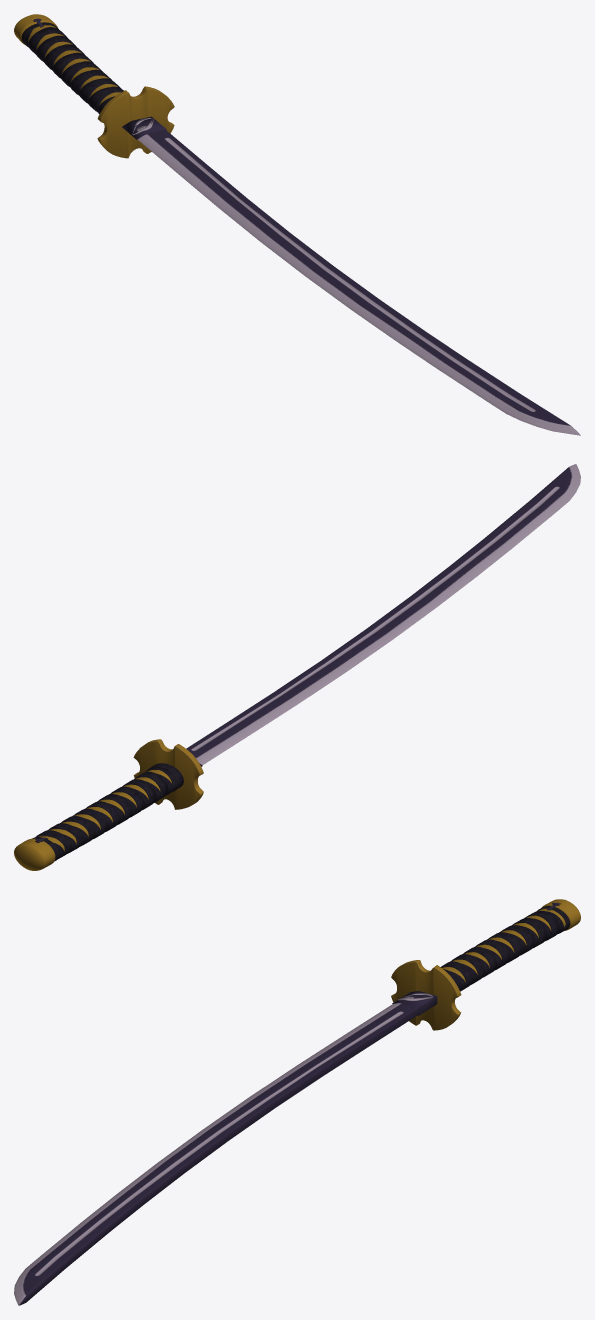
The model's file is sword.glb.
3 views of the same model, one above another, from view 1: azimuth 30°, elevation 25°; view 2: azimuth 150°, elevation 25°; view 3: azimuth 330°, elevation 25° (orthographic). The views are drawn at different scales.
Parts seen in each view (by area): view 1: katana blade.001_Metal scratched.003_0, katana blade.001_Metal scratched.002_0, katana blade.001_Wool 01.002_0; view 2: katana blade.001_Metal scratched.003_0, katana blade.001_Metal scratched.002_0, katana blade.001_Wool 01.002_0; view 3: katana blade.001_Metal scratched.003_0, katana blade.001_Metal scratched.002_0, katana blade.001_Wool 01.002_0.
Part boxes in pixels (x1,y1,x2,y2): katana blade.001_Metal scratched.003_0: (21,22,580,435); katana blade.001_Metal scratched.002_0: (33,18,580,435); katana blade.001_Wool 01.002_0: (14,14,174,158); katana blade.001_Metal scratched.003_0: (32,467,580,861); katana blade.001_Metal scratched.002_0: (35,464,580,842); katana blade.001_Wool 01.002_0: (14,739,203,870); katana blade.001_Metal scratched.003_0: (15,906,570,1302); katana blade.001_Metal scratched.002_0: (14,902,559,1305); katana blade.001_Wool 01.002_0: (391,899,580,1030).
Size of the model in its own units: 0.0949 by 0.0812 by 1.25.
4 materials, 3 textured.
